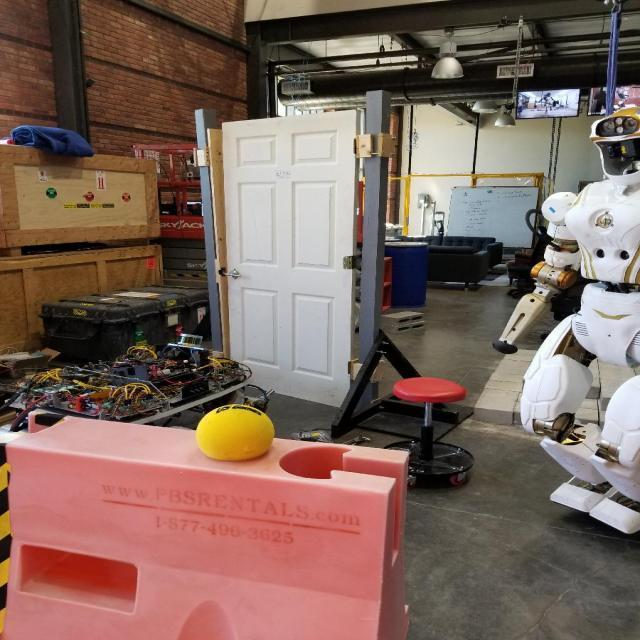door: (219, 106, 361, 413), (222, 266, 248, 284)
